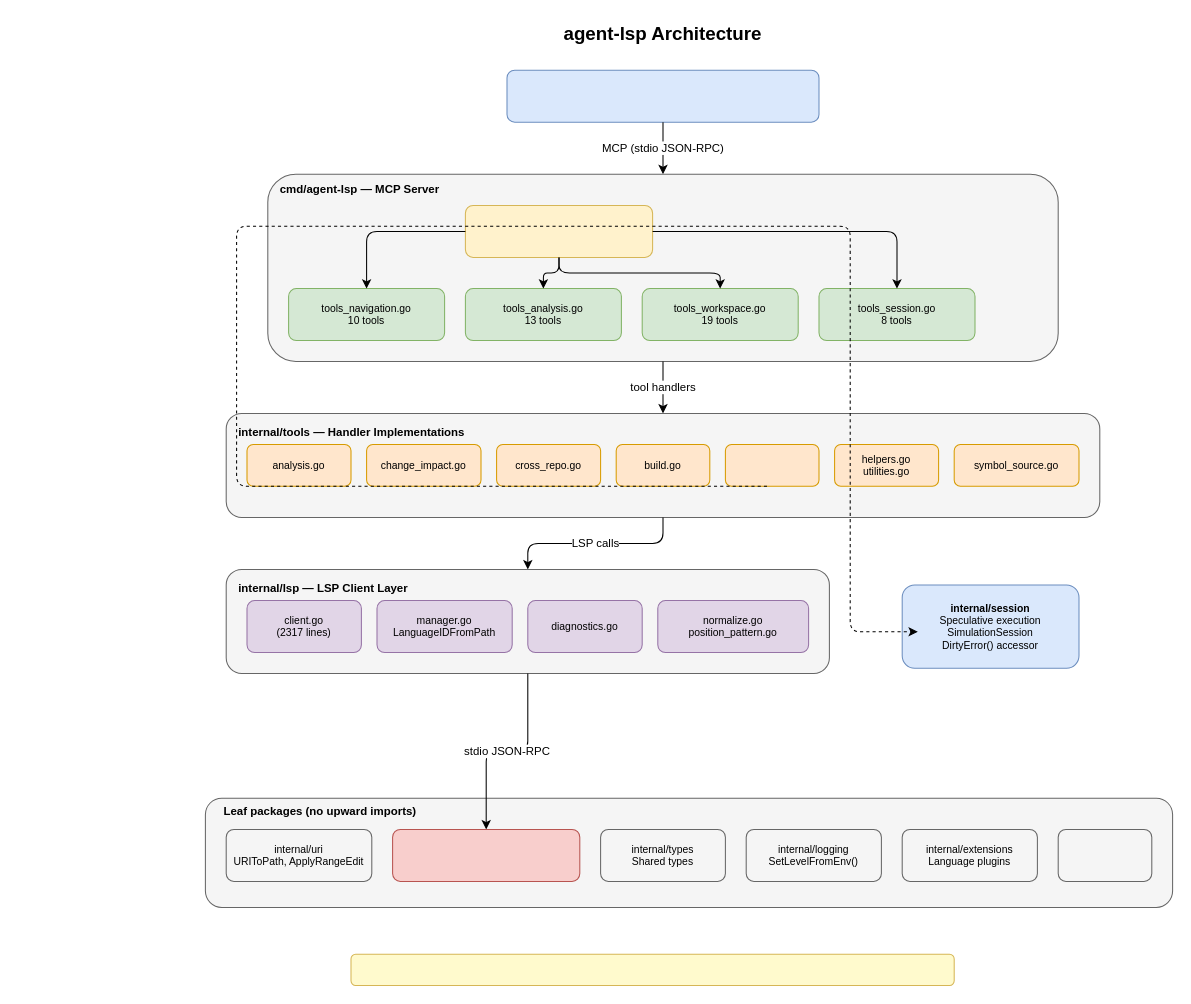
This 1191x1004 diagram has some shape labels left out. Here are the shapes that lost their labels. From the top down, the centre of each, then its label:
At [662,95]: "MCP Client (AI Agent / Claude Code)".
At [558,230]: "server.go Run() + toolDeps".
At [771,465]: "session.go".
At [486,854]: "gopls (subprocess)".
At [1104,854]: "internal/config".
At [652,969]: "Layer rule: cmd → internal/tools → internal/lsp → internal/uri/types/logging".
